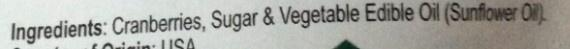ingredients: (2, 3, 570, 39)
